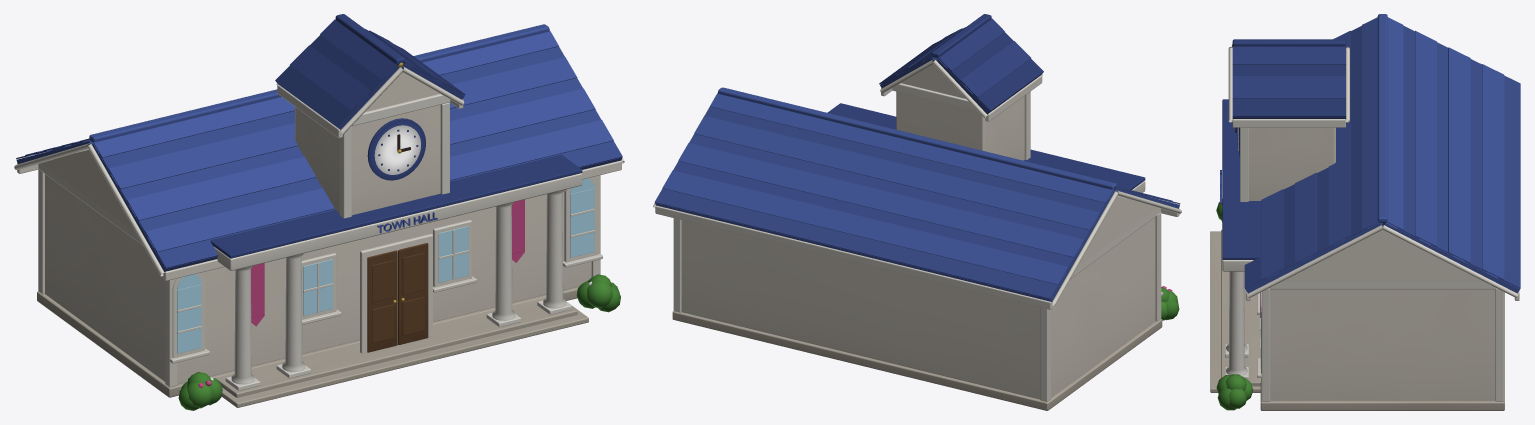
The model's file is bld_townhall.glb.
3 views of the same model, side by side, from view 1: azimuth 30°, elevation 25°; view 2: azimuth 150°, elevation 25°; view 3: azimuth 270°, elevation 25° (orthographic). The views are drawn at different scales.
Visible parts, largest first — view 1: bld_townhall_main, bld_townhall_glass; view 2: bld_townhall_main; view 3: bld_townhall_main.
Boxes of the visible parts, x1,y1,x2,y2 form: bld_townhall_main: [14, 14, 624, 410]; bld_townhall_glass: [177, 178, 594, 353]; bld_townhall_main: [653, 14, 1181, 410]; bld_townhall_main: [1210, 14, 1520, 410].
Bounding box in the file's own units: 6.85 × 4.25 × 4.32.
